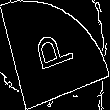P_W: (31, 30, 79, 80)
